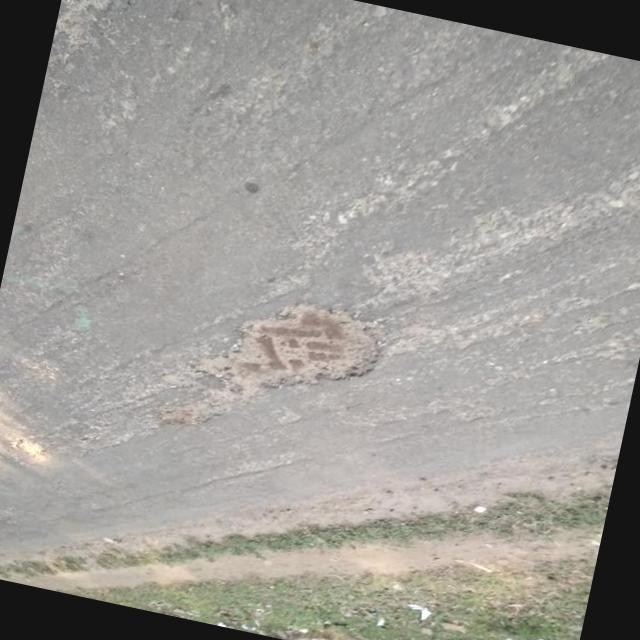pothole: (198, 282, 390, 422), (153, 396, 215, 436)
